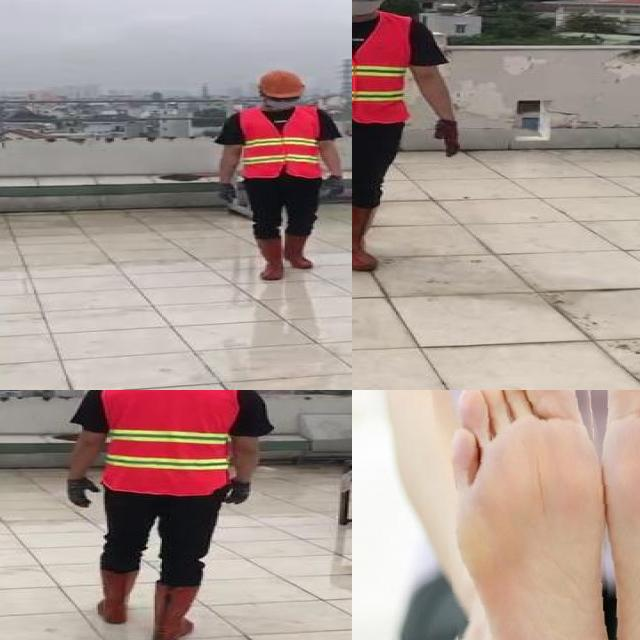Barefoots: (435, 390, 617, 640)
boots: (145, 581, 199, 640), (95, 565, 137, 624), (352, 201, 381, 272), (254, 236, 284, 280), (281, 233, 313, 269)
face_mask: (352, 0, 390, 16)
glasses: (264, 94, 302, 104)
hand_glove: (64, 476, 104, 507), (433, 119, 462, 157), (219, 477, 253, 504), (318, 176, 348, 198), (219, 181, 237, 204)
head_helmet: (255, 68, 305, 94)
person: (55, 390, 268, 640), (352, 0, 469, 279), (207, 68, 351, 282)
vest: (100, 390, 235, 494), (238, 105, 324, 180), (352, 12, 406, 123)
